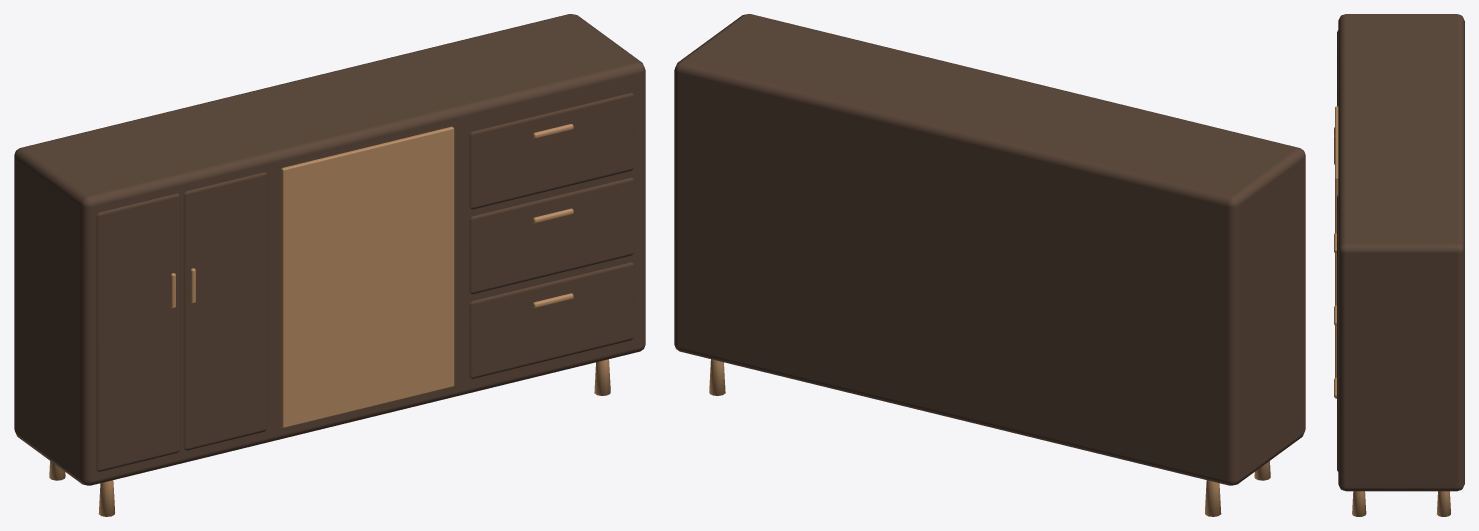
The model's file is sideboard.glb.
3 views of the same model, side by side, from view 1: azimuth 30°, elevation 25°; view 2: azimuth 150°, elevation 25°; view 3: azimuth 270°, elevation 25° (orthographic). The views are drawn at different scales.
Parts seen in each view (by area): view 1: sideboard; view 2: sideboard; view 3: sideboard.
Part boxes in pixels (bbox=[...]): sideboard: bbox=[14, 14, 645, 516]; sideboard: bbox=[674, 14, 1305, 516]; sideboard: bbox=[1334, 14, 1464, 516].
Size of the model in its own units: 1.71 by 0.9544 by 0.4014.
